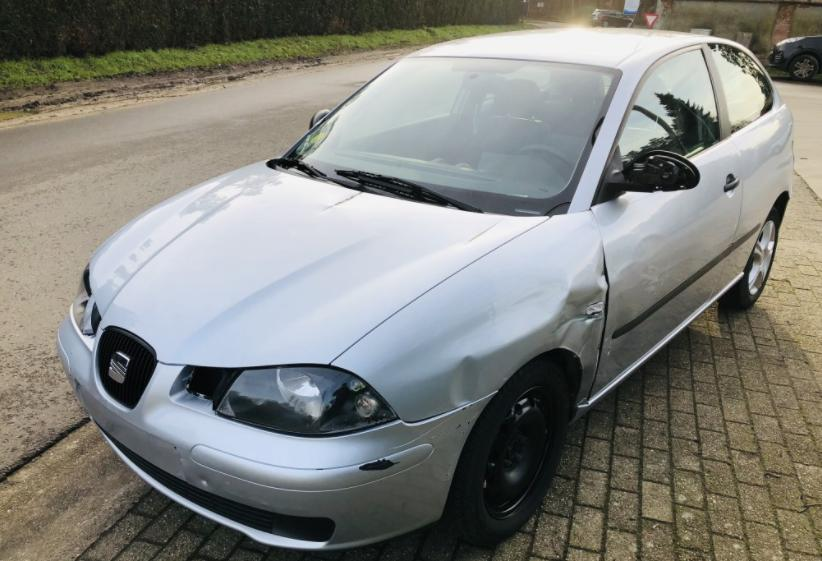Back-wheel: (718, 210, 779, 313)
Back-window: (708, 43, 773, 133)
Fender: (330, 210, 608, 422)
Front-bumper: (57, 308, 498, 549)
Front-door: (587, 43, 743, 403)
Front-wheel: (442, 355, 572, 553)
Front-window: (618, 44, 719, 171)
Grille: (96, 326, 158, 410)
Headlight: (169, 365, 401, 439), (71, 261, 101, 336)
Hood: (90, 157, 551, 367)
Mirror: (593, 144, 700, 203)
Quarter-panel: (710, 103, 793, 300)
Rocker-panel: (568, 272, 744, 429)
Roof: (402, 28, 709, 68)
Windshield: (277, 57, 622, 217)
